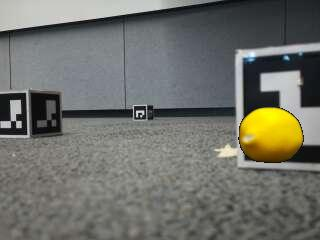lemon: (240, 107, 303, 162)
